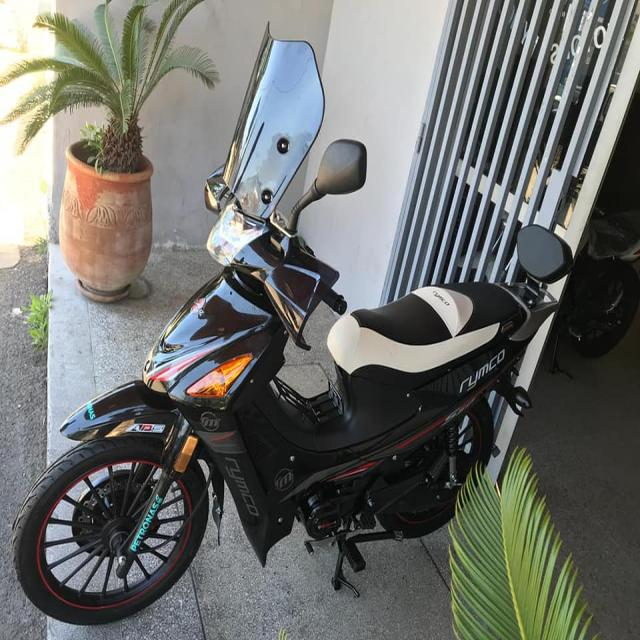Motorcycle: (13, 32, 571, 625)
Tree: (0, 0, 219, 301)
